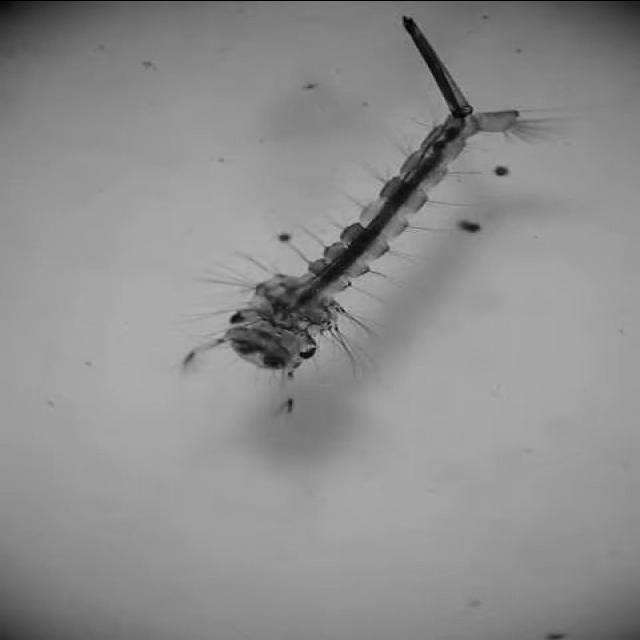larvas: (215, 63, 542, 375)
